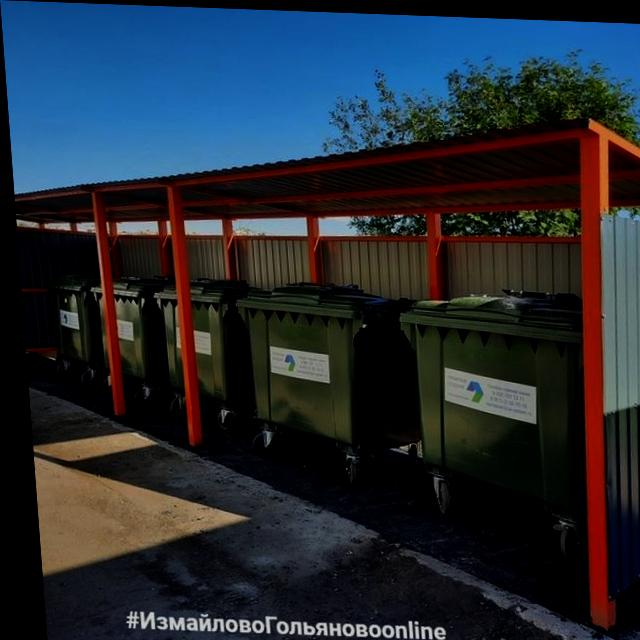Trash_Can_Closed: (392, 287, 589, 521), (229, 276, 418, 452), (148, 276, 250, 406), (86, 273, 171, 384), (41, 270, 101, 366)
